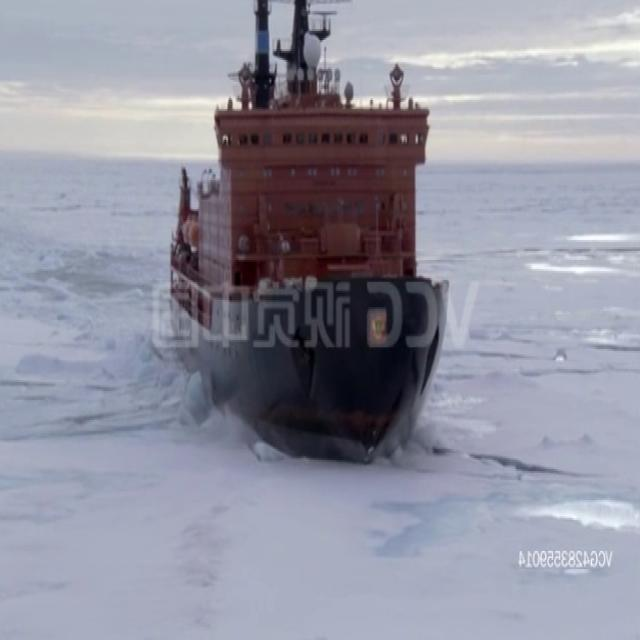cargoship: (171, 0, 459, 456)
